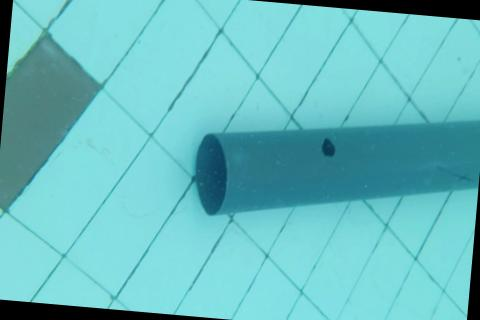kebocoran: (320, 136, 336, 159)
keretakan: (434, 165, 477, 185)
